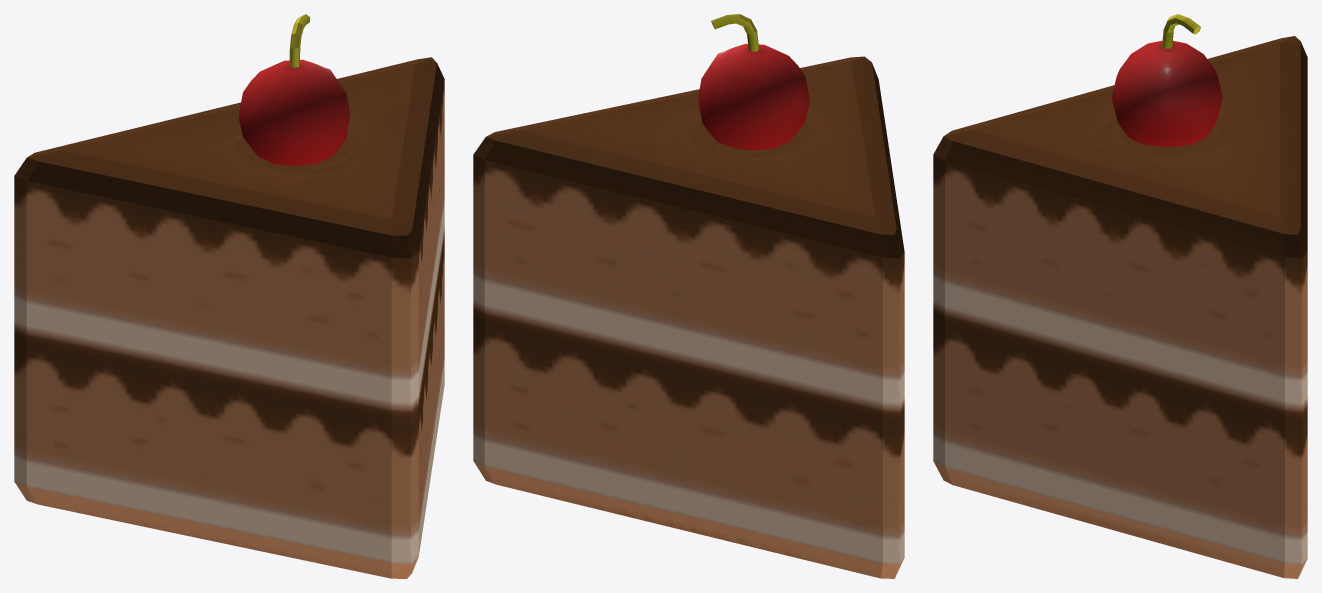
The model's file is Cake.FBX.
3 renders of one model, left to right at view 1: azimuth 30°, elevation 25°; view 2: azimuth 150°, elevation 25°; view 3: azimuth 270°, elevation 25°, orthographic.
Visible parts, largest first — view 1: Cake; view 2: Cake; view 3: Cake.
Part boxes in pixels (<box>): Cake: <box>14,14,444,578</box>; Cake: <box>473,14,904,578</box>; Cake: <box>933,14,1307,578</box>.
Size of the model in its own units: 138 by 147 by 105.
